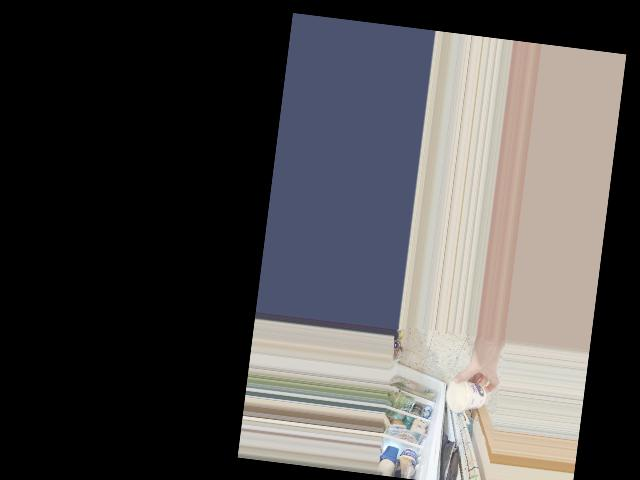cotage: (445, 374, 490, 415)
